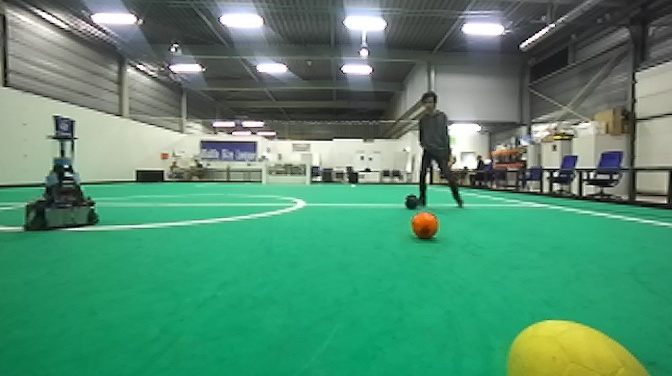ball: (494, 311, 653, 376), (409, 208, 444, 243), (403, 191, 420, 211)
goal: (259, 161, 311, 185)
goalpost: (304, 160, 311, 186), (260, 162, 268, 184)
human: (413, 89, 465, 212)
robot: (19, 107, 104, 235)
